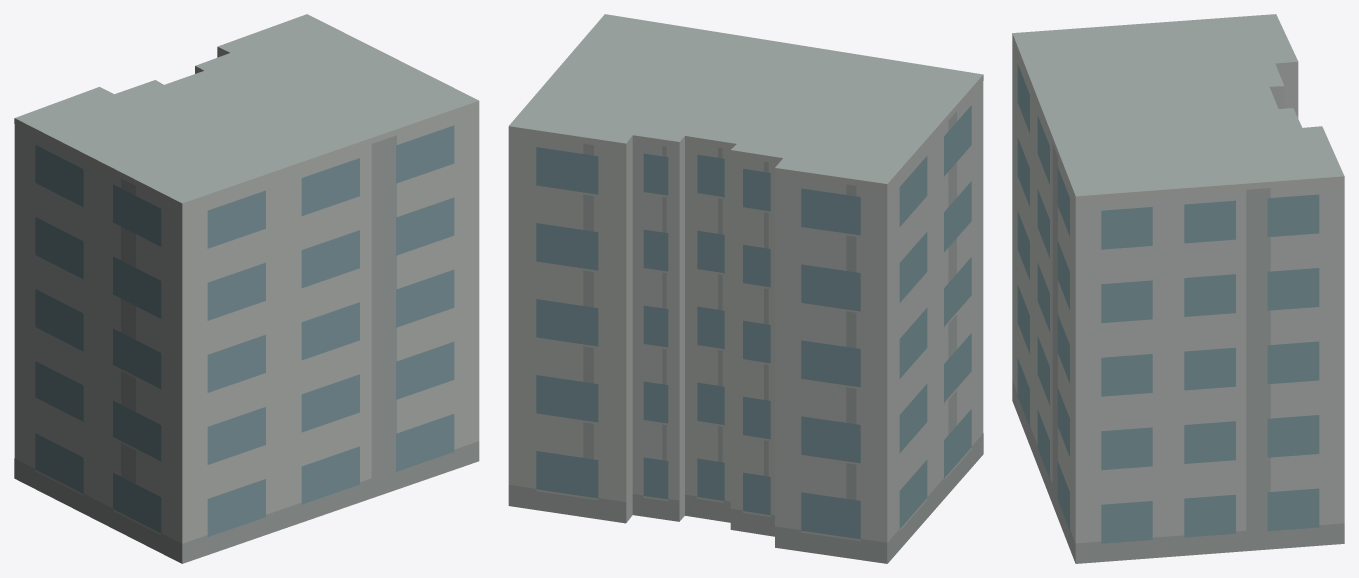
Rendered from survey-upis-32579760.glb.
The picture shows the model from 3 angles, left to right: view 1: azimuth 30°, elevation 25°; view 2: azimuth 150°, elevation 25°; view 3: azimuth 270°, elevation 25°; orthographic projection. The views are drawn at different scales.
Visible parts, largest first — view 1: survey-upis-32579760.tmp; view 2: survey-upis-32579760.tmp; view 3: survey-upis-32579760.tmp.
Part boxes in pixels (x1,y1,x2,y2): survey-upis-32579760.tmp: [14, 14, 479, 563]; survey-upis-32579760.tmp: [508, 14, 983, 563]; survey-upis-32579760.tmp: [1012, 14, 1344, 563].
Bounding box in the file's own units: 15.55 × 14.6 × 11.97.
